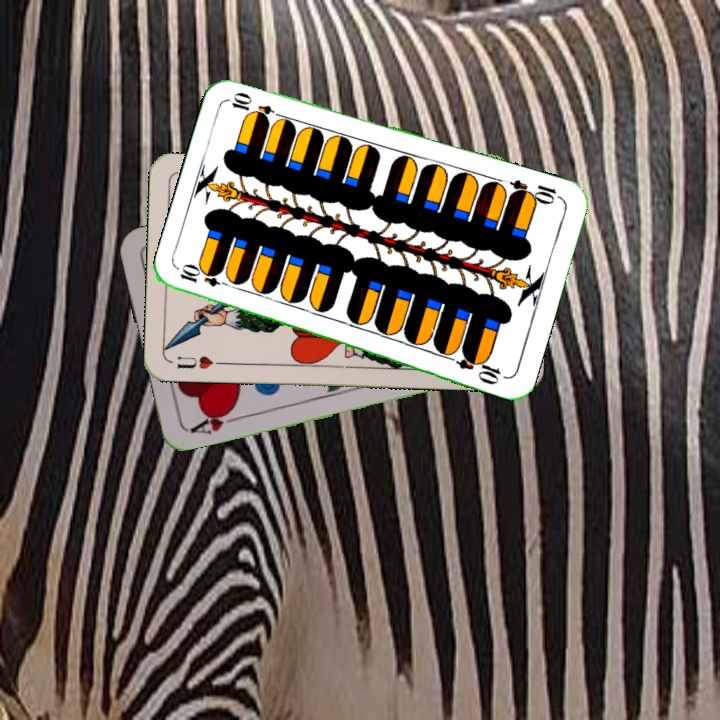E10: (505, 175, 564, 207), (175, 265, 234, 291)
HA: (183, 404, 241, 437)
HU: (173, 352, 227, 372)
